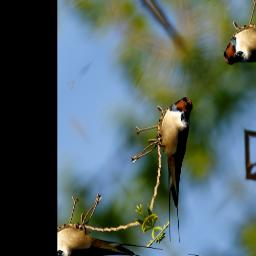Swallow: (115, 91, 244, 248)
